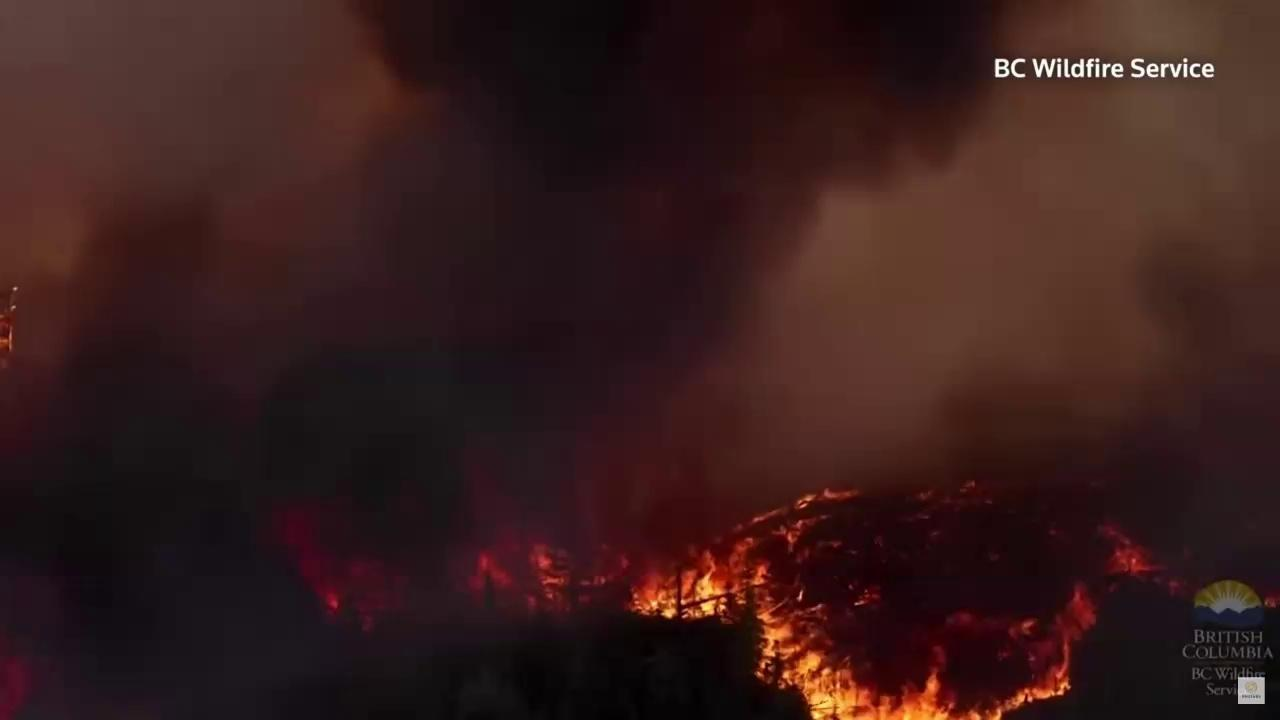fire: (457, 476, 1171, 720), (264, 493, 414, 630)
smoke: (0, 0, 1280, 720)
